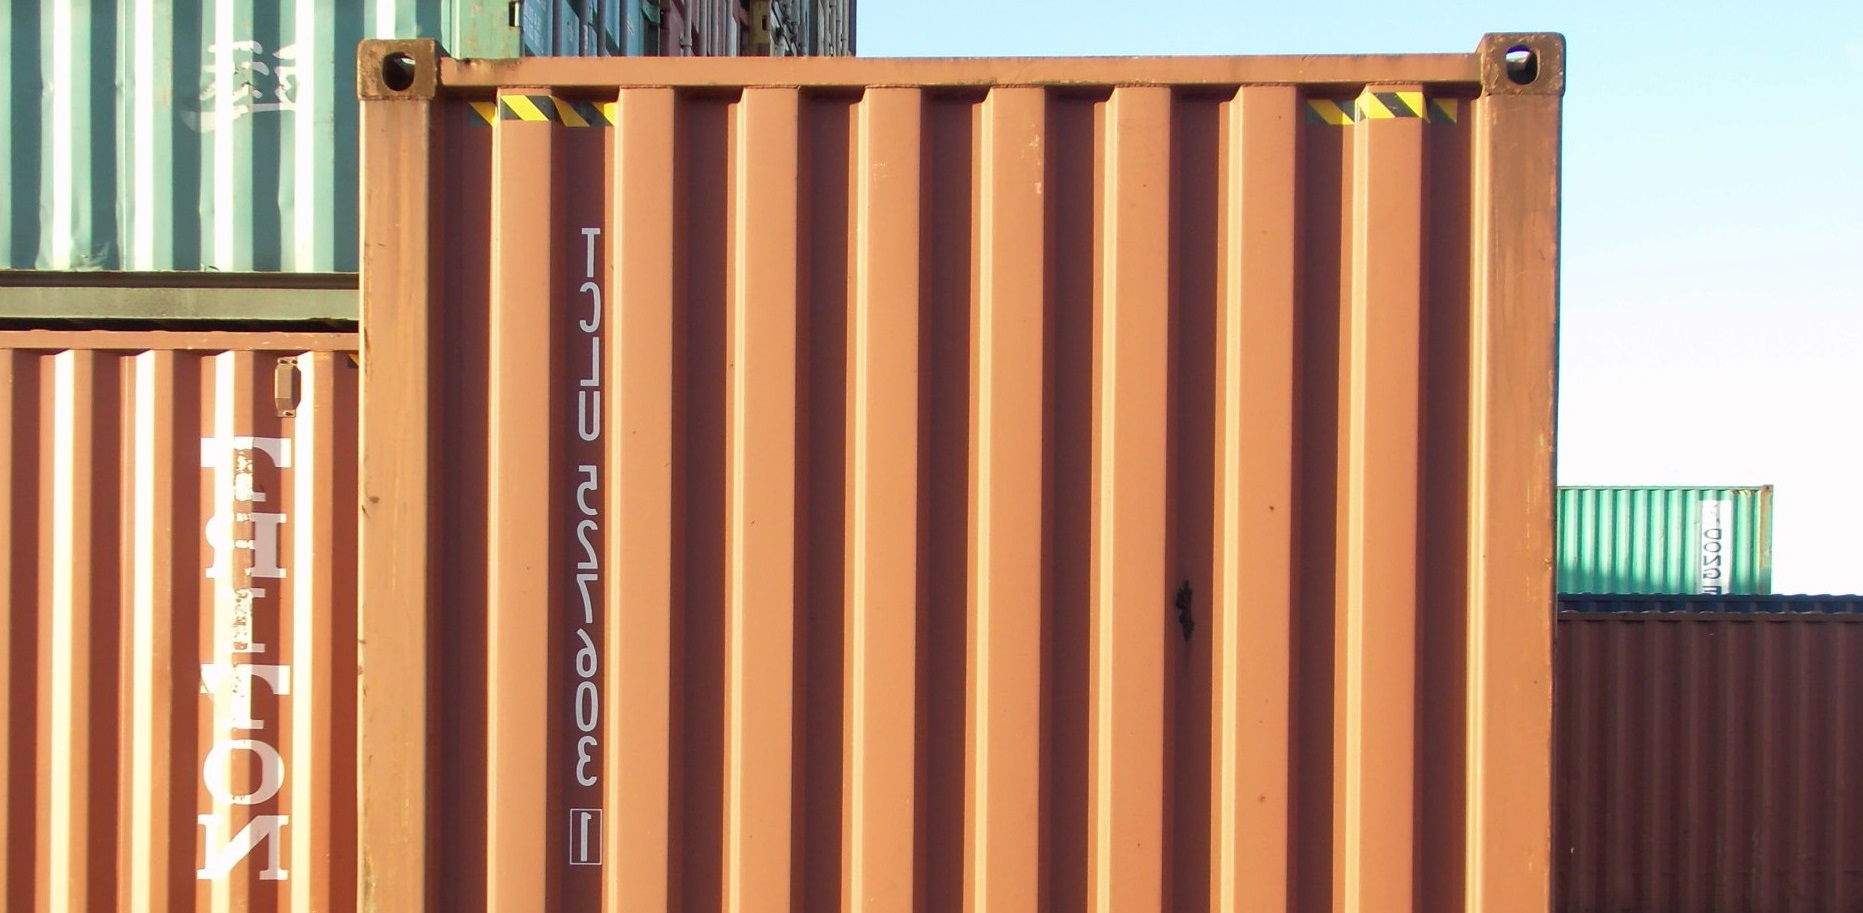container_no_door: (356, 32, 1567, 906)
